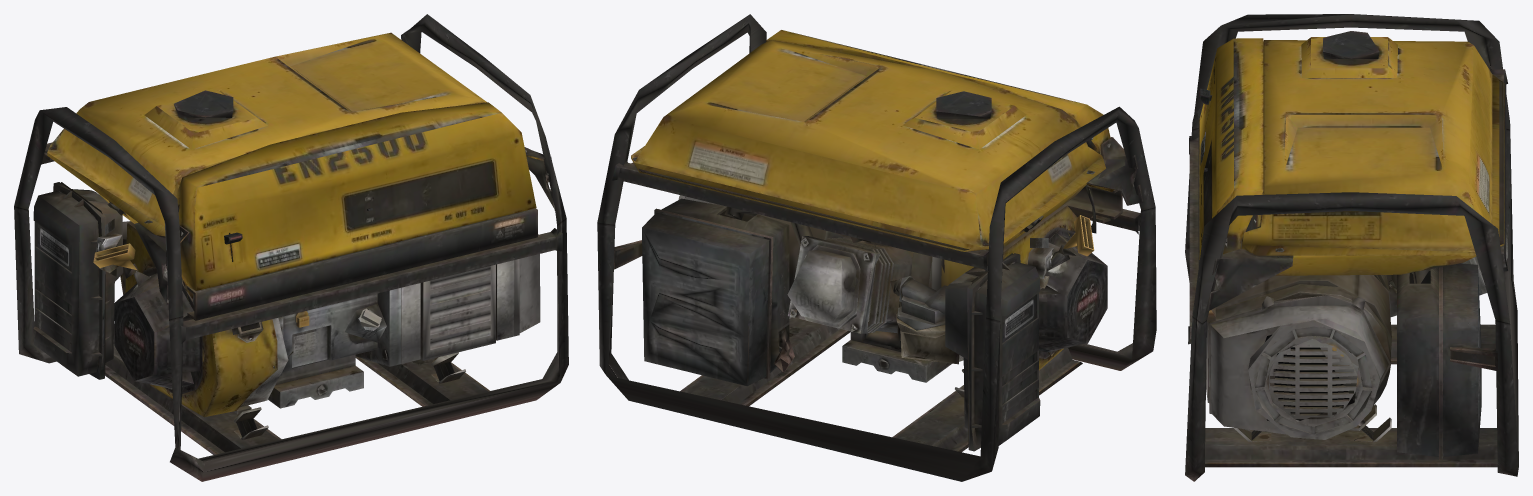
The model's file is generator.glb.
3 views of the same model, side by side, from view 1: azimuth 30°, elevation 25°; view 2: azimuth 150°, elevation 25°; view 3: azimuth 270°, elevation 25° (orthographic). The views are drawn at different scales.
Parts seen in each view (by area): view 1: portable_generator; view 2: portable_generator; view 3: portable_generator.
Boxes of the visible parts, x1,y1,x2,y2 form: portable_generator: [14, 14, 568, 481]; portable_generator: [597, 14, 1156, 481]; portable_generator: [1185, 14, 1518, 481].
Bounding box in the file's own units: 0.8146 × 0.5752 × 0.5615.
Materials: 2 (2 with a texture image).
